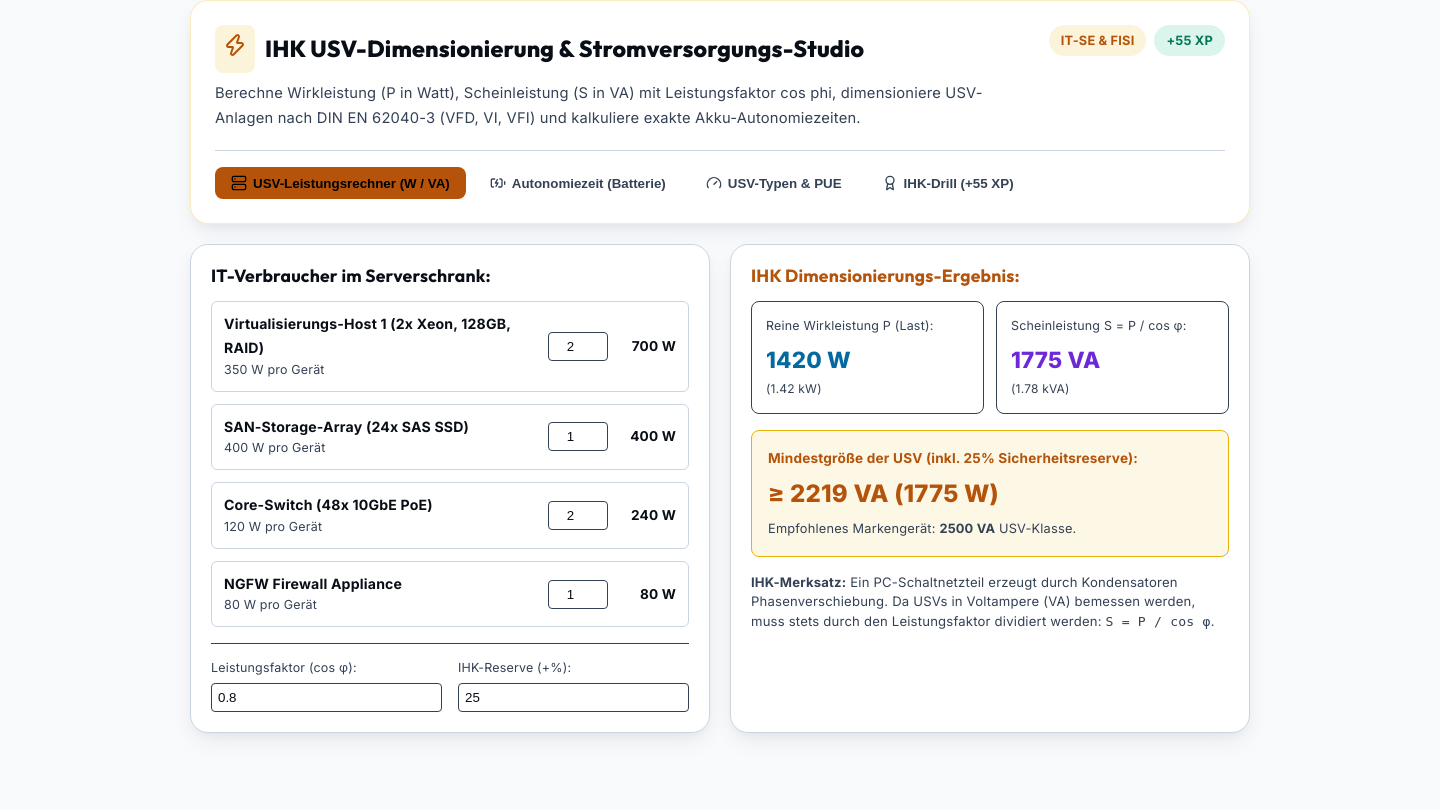
Scenario: UsvCalculatorLab › wechselt zum Autonomiezeit Tab und zeigt Minuten an
Click the button "Autonomiezeit (Batterie)". click: (578, 183)
box: x1=474 y1=167 x2=682 y2=199
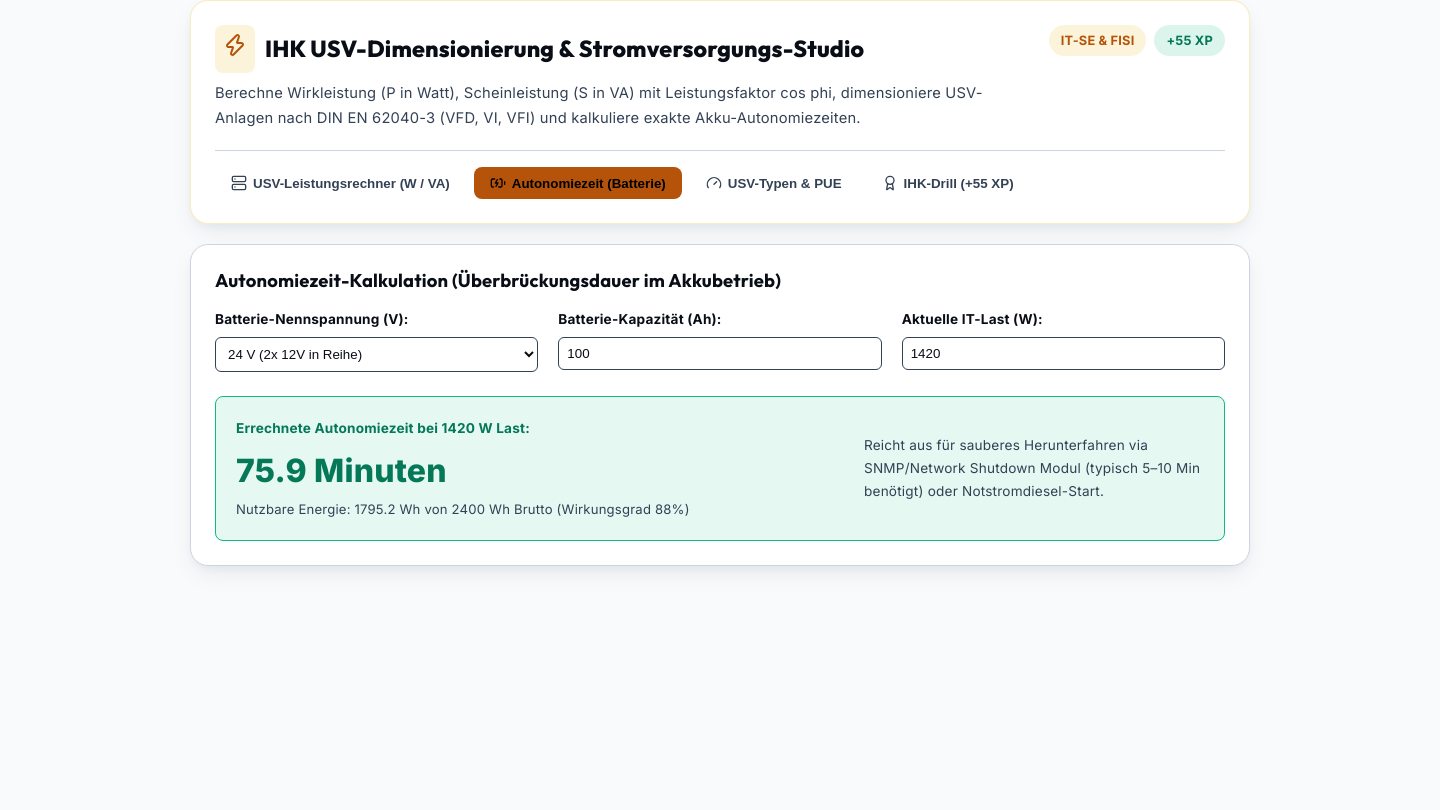
Check: the heading "Autonomiezeit-Kalkulation" is shown, box x1=215 y1=269 x2=781 y2=292
Check: the text "Errechnete Autonomiezeit bei 1420 W Last:" is shown, box x1=236 y1=420 x2=530 y2=436
